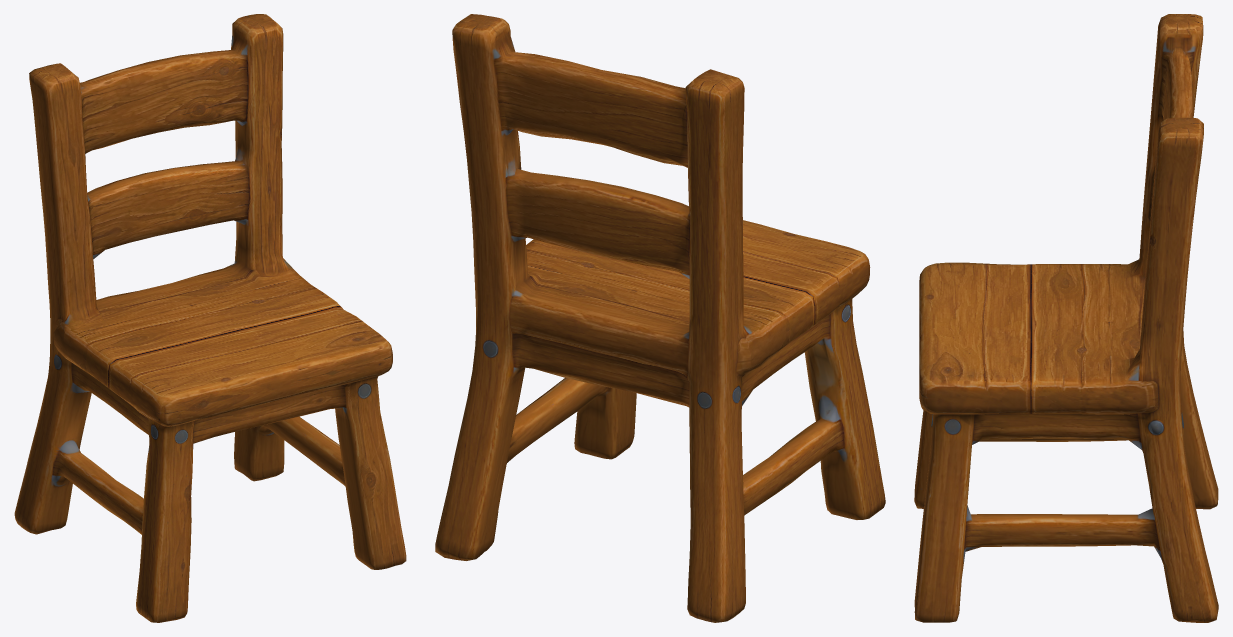
The model's file is home_chair.glb.
3 renders of one model, left to right at view 1: azimuth 30°, elevation 25°; view 2: azimuth 150°, elevation 25°; view 3: azimuth 270°, elevation 25°, orthographic. The views are drawn at different scales.
Visible parts, largest first — view 1: tripo_node_cd375efc; view 2: tripo_node_cd375efc; view 3: tripo_node_cd375efc.
Part boxes in pixels (x1,y1,x2,y2): tripo_node_cd375efc: (14,14,406,622); tripo_node_cd375efc: (435,14,885,622); tripo_node_cd375efc: (914,14,1218,622).
Size of the model in its own units: 56.92 by 98.11 by 55.44.
1 material, 1 textured.
